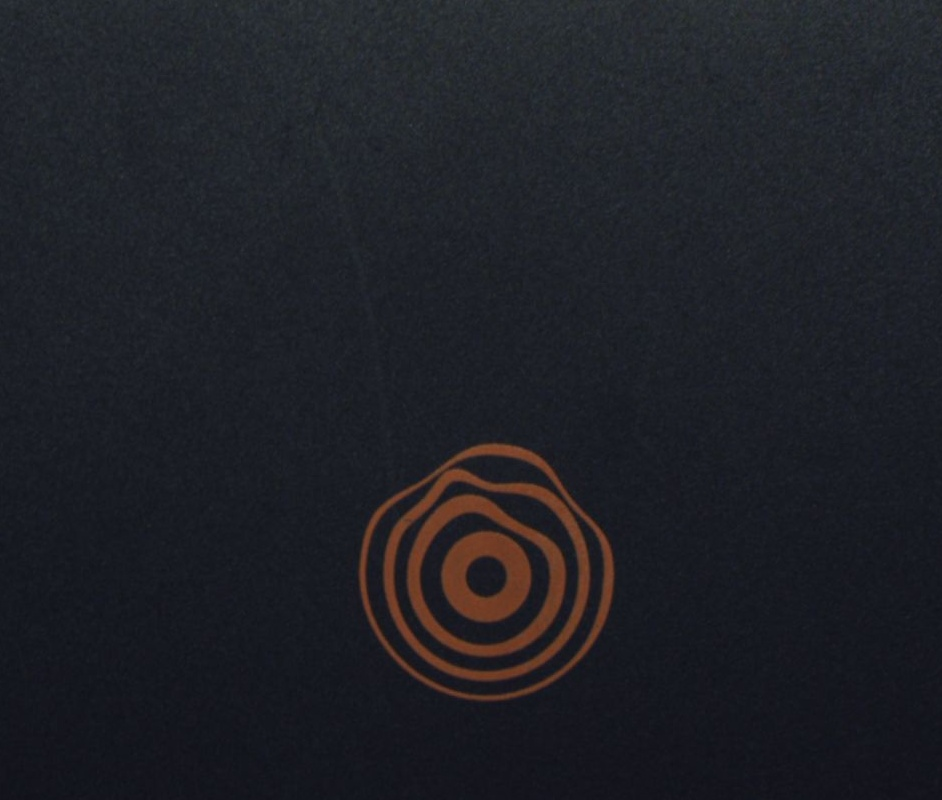BU_HG680GY: (354, 442, 616, 701)
